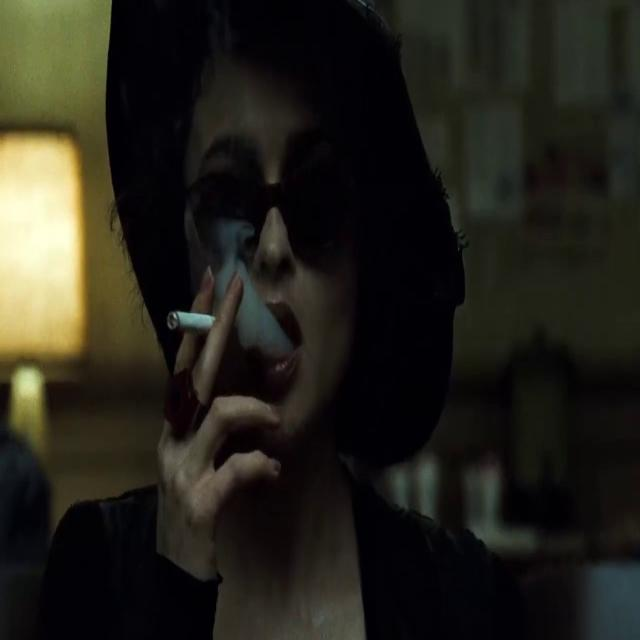Smooking: (159, 301, 217, 348)
